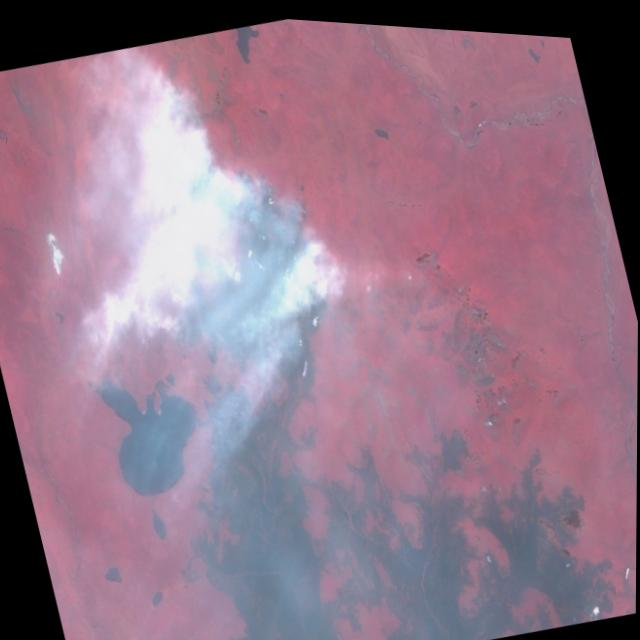fire: (129, 111, 347, 375)
